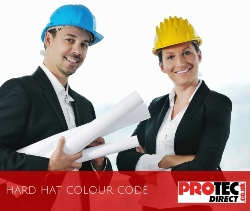Helmet: (39, 2, 104, 45), (149, 14, 204, 55)
